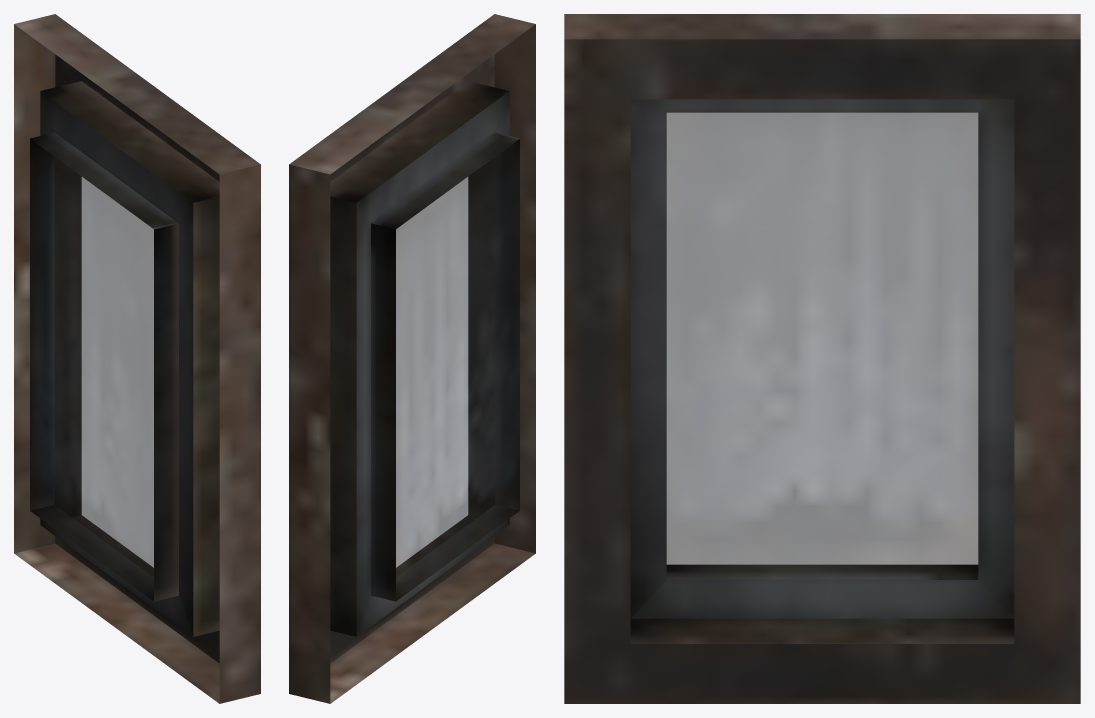
The model's file is SmallWindow.FBX.
3 views of the same model, side by side, from view 1: azimuth 30°, elevation 25°; view 2: azimuth 150°, elevation 25°; view 3: azimuth 270°, elevation 25° (orthographic). The views are drawn at different scales.
Parts seen in each view (by area): view 1: SmallWindow; view 2: SmallWindow; view 3: SmallWindow.
Boxes of the visible parts, bbox=[...] form: SmallWindow: bbox=[14, 14, 260, 703]; SmallWindow: bbox=[289, 14, 535, 703]; SmallWindow: bbox=[564, 14, 1080, 703].
Size of the model in its own units: 18.02 by 138 by 96.98.
